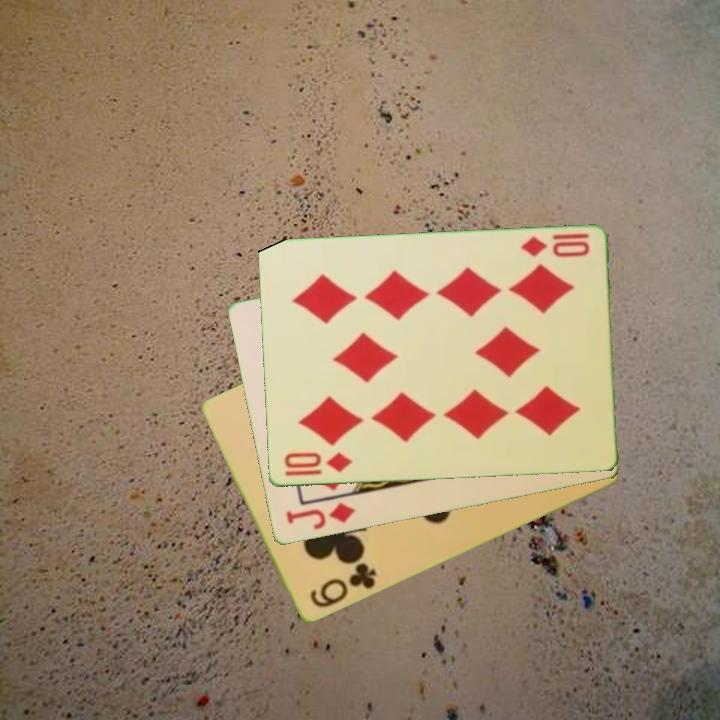10d: (280, 449, 355, 480), (517, 230, 592, 261)
6c: (306, 560, 379, 612)
Jd: (282, 499, 358, 533)
